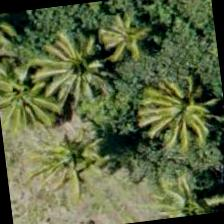Kelapa_Sawit: (27, 112, 127, 212), (0, 8, 96, 109), (127, 71, 223, 172), (67, 0, 167, 87), (0, 45, 63, 143), (0, 8, 46, 70)
